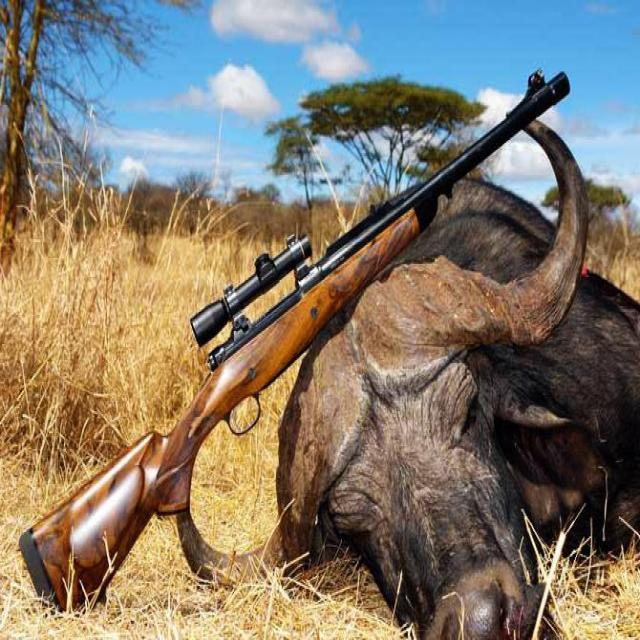rifle: (20, 55, 578, 608)
